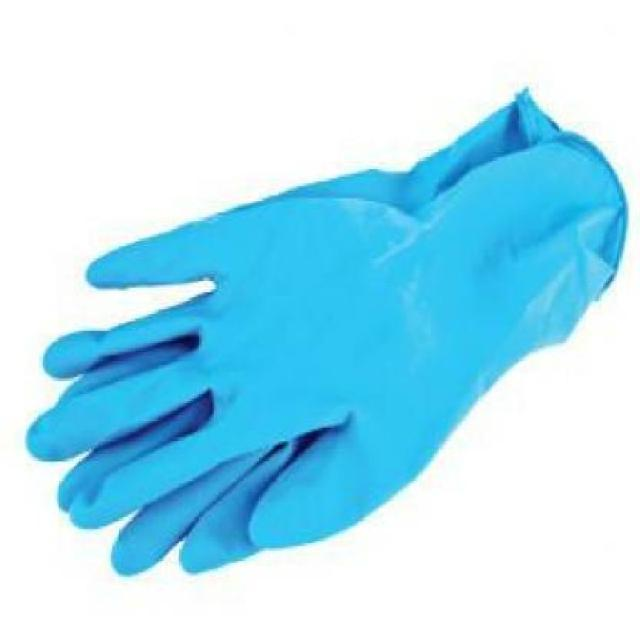gloved_hand: (25, 72, 628, 580)
